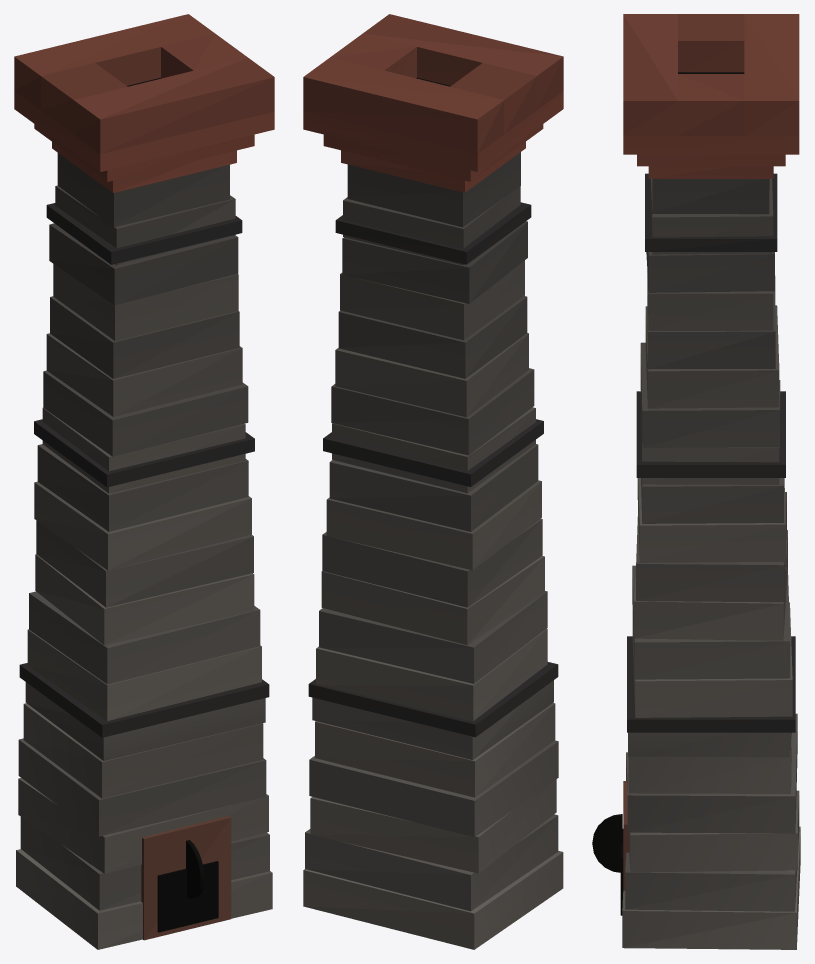
File: smelter-chimney.glb
3 views of the same model, side by side, from view 1: azimuth 30°, elevation 25°; view 2: azimuth 150°, elevation 25°; view 3: azimuth 270°, elevation 25° (orthographic). The views are drawn at different scales.
Visible parts, largest first — view 1: smelter-chimney; view 2: smelter-chimney; view 3: smelter-chimney.
Part boxes in pixels (left/top/right/bottom): smelter-chimney: left=14, top=14, right=274, bottom=949; smelter-chimney: left=303, top=14, right=563, bottom=949; smelter-chimney: left=592, top=14, right=800, bottom=949.
Bounding box in the file's own units: 2 × 9 × 2.
